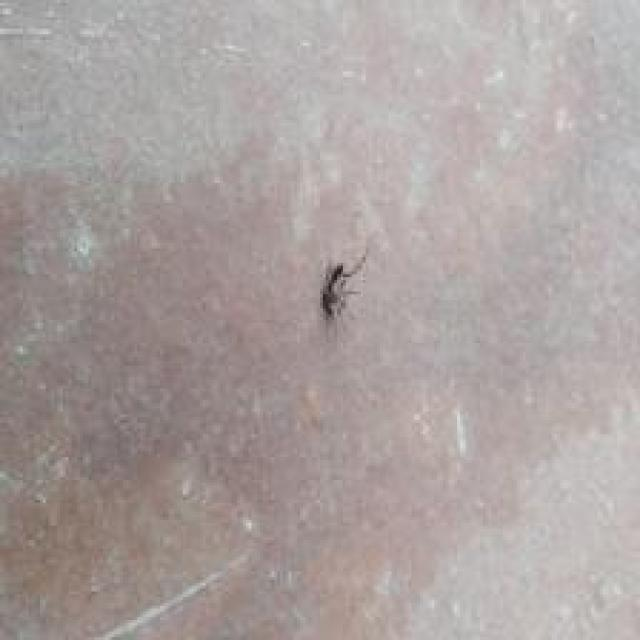Aedes albopictus: (316, 250, 367, 327)
